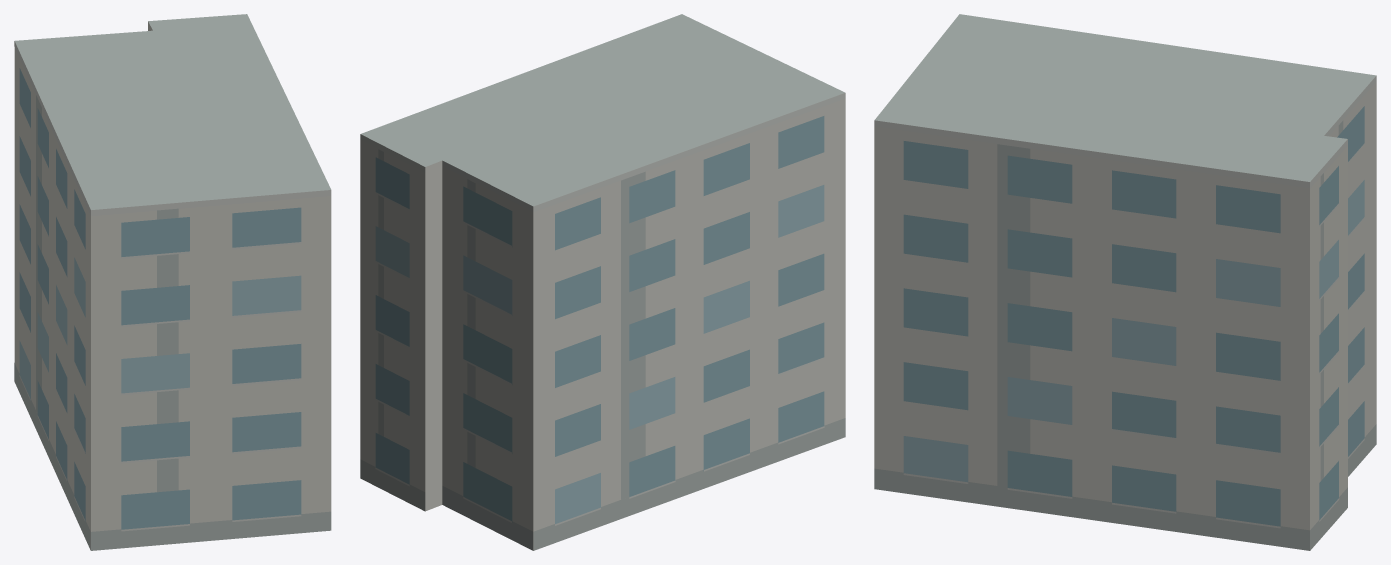
File: survey-upis-32885148.glb
The picture shows the model from 3 angles, left to right: view 1: azimuth 30°, elevation 25°; view 2: azimuth 150°, elevation 25°; view 3: azimuth 270°, elevation 25°; orthographic projection. The views are drawn at different scales.
Visible parts, largest first — view 1: survey-upis-32885148.tmp; view 2: survey-upis-32885148.tmp; view 3: survey-upis-32885148.tmp.
Boxes of the visible parts, x1,y1,x2,y2 form: survey-upis-32885148.tmp: [14, 14, 331, 550]; survey-upis-32885148.tmp: [360, 14, 845, 550]; survey-upis-32885148.tmp: [874, 14, 1376, 550].
Size of the model in its own units: 13.79 by 14.1 by 17.41.
